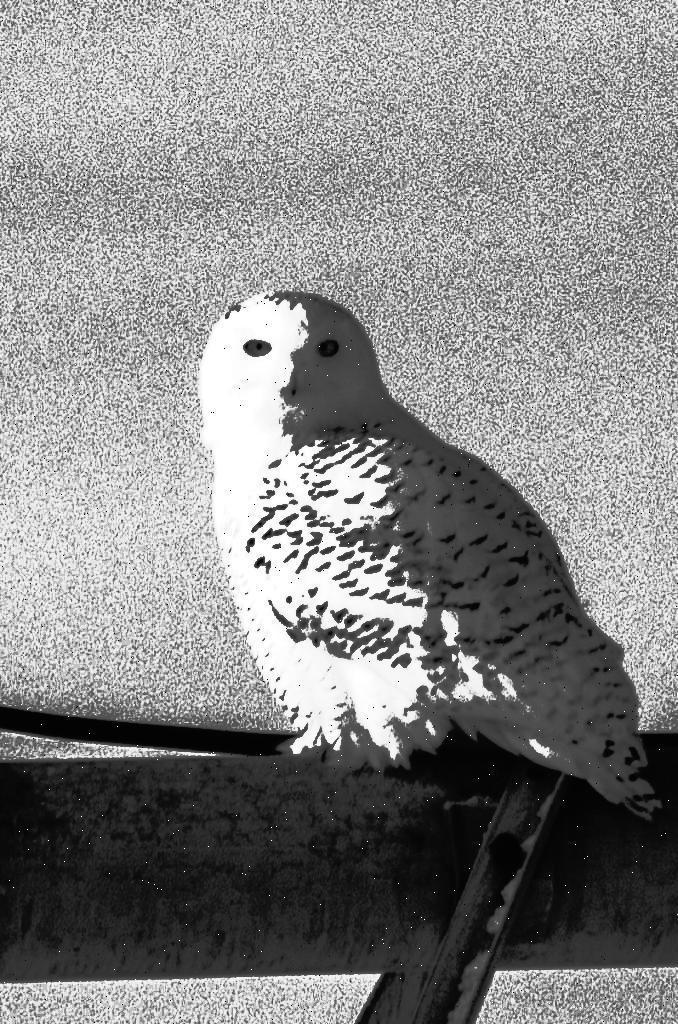Owl: (198, 284, 667, 829)
